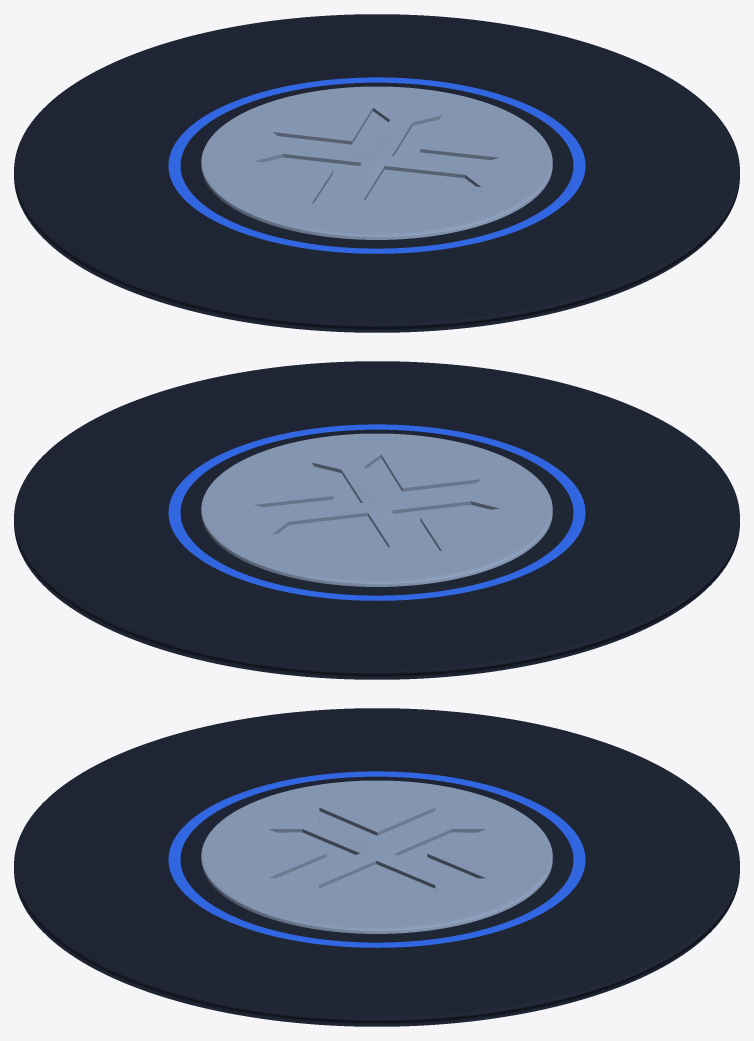
Rendered from forge.glb.
3 views of the same model, one above another, from view 1: azimuth 30°, elevation 25°; view 2: azimuth 150°, elevation 25°; view 3: azimuth 270°, elevation 25° (orthographic).
Parts seen in each view (by area): view 1: plinth, disc, ring; view 2: plinth, disc, ring; view 3: plinth, disc, ring.
Part boxes in pixels (x1,y1,x2,y2): plinth: (14, 14, 739, 332); disc: (201, 86, 552, 239); ring: (168, 77, 585, 253); plinth: (14, 361, 739, 679); disc: (201, 433, 552, 586); ring: (168, 424, 585, 600); plinth: (14, 708, 739, 1026); disc: (201, 780, 552, 933); ring: (168, 771, 585, 947).
Size of the model in its own units: 3.8 by 0.16 by 3.8.
